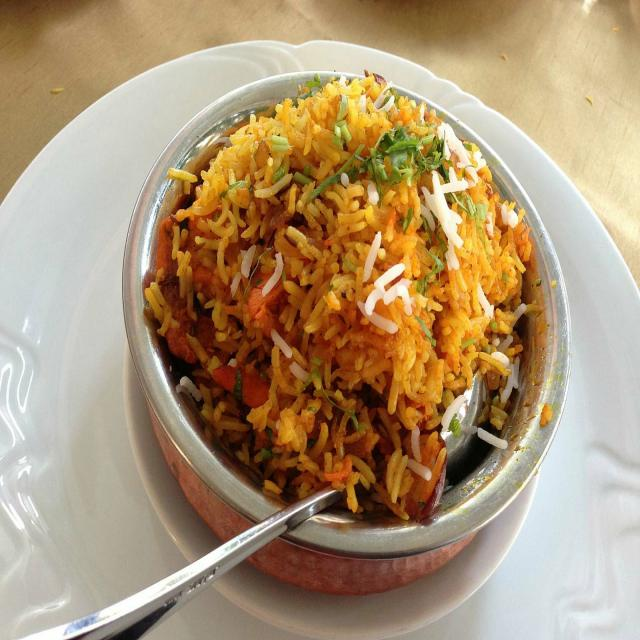Biryani: (143, 72, 536, 524)
